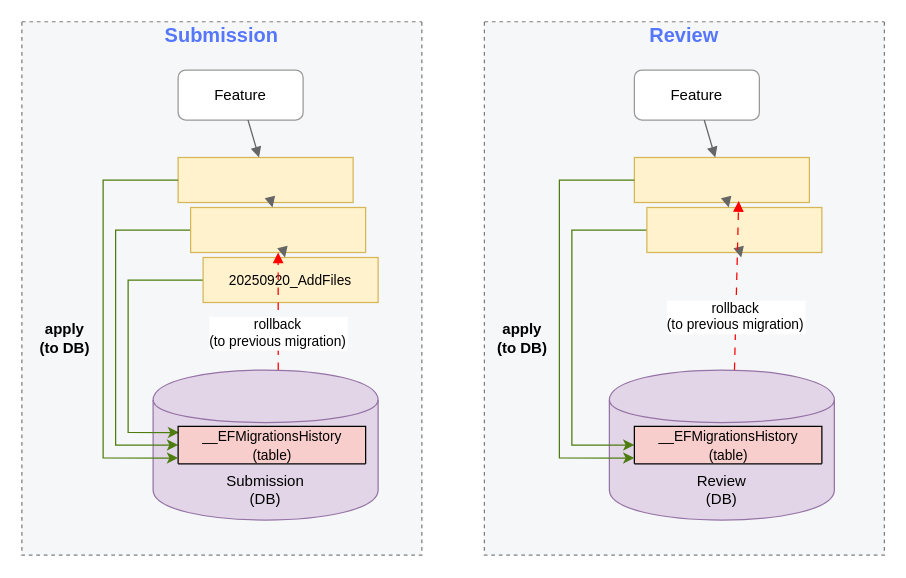
Some shapes in this 906 by 578 pixel diagram are drawn without their labels. Each missing label, with the centre of its shape:
20250905_InitialCreate: point (721, 179)
20250908_InitialCreate: point (265, 179)
20250912_AddAuthor: point (277, 229)
20250918_AddReviewer: point (734, 229)
